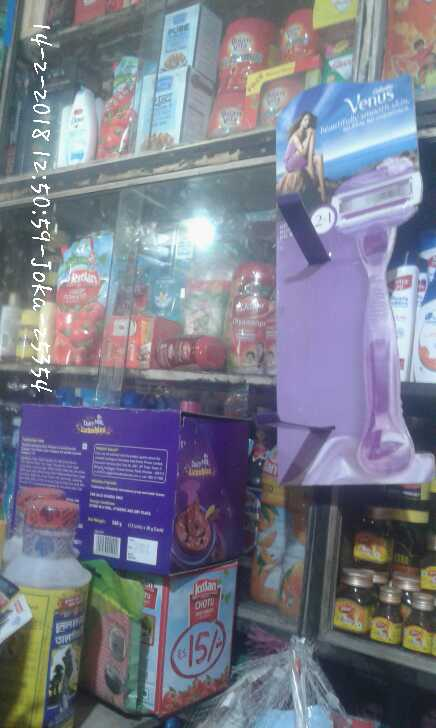reject: (244, 231, 323, 334)
